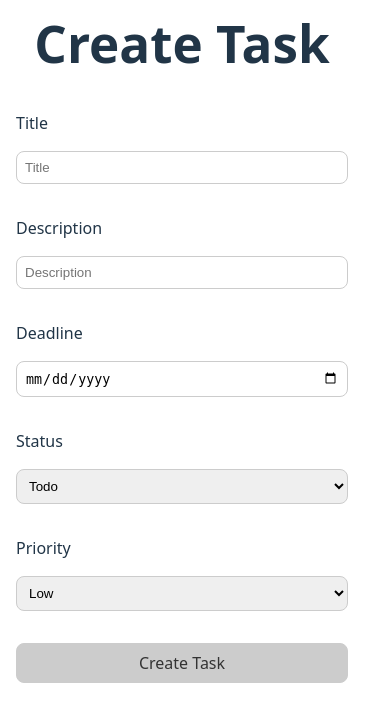
CreateTaskPage › should show error when deadline is in the past
Type "Test Task" into the field with placeholder "Title" at (182, 168), box [16,152,348,184]
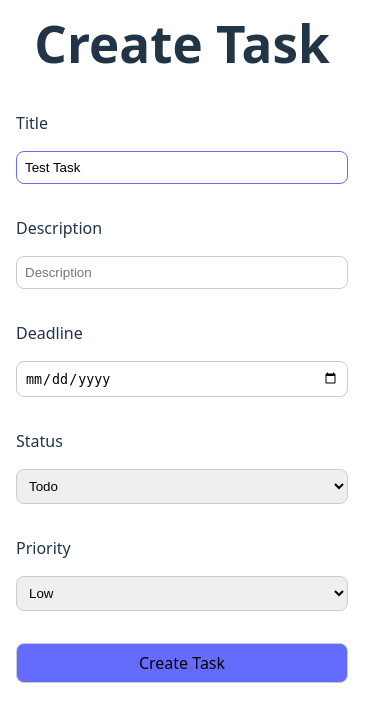
Type "2024-12-31" into the date field labelled "Deadline" at (182, 379), box [16,362,348,397]
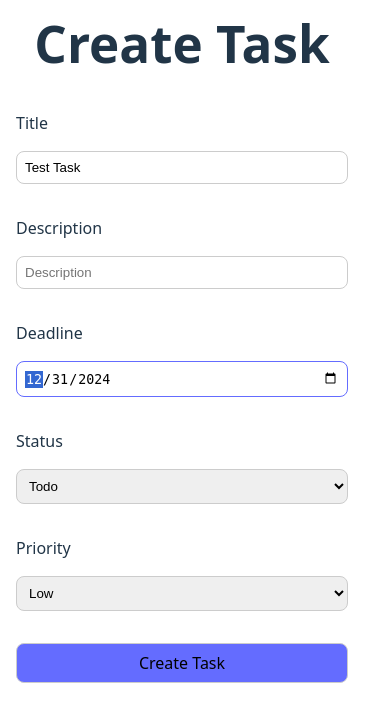
Press Tab
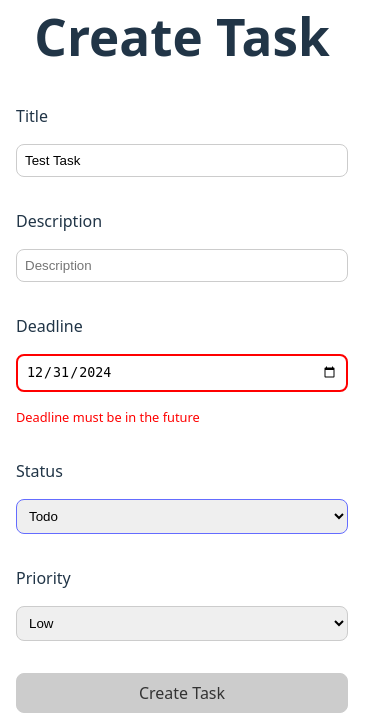
Expected: the button "Create Task" is disabled, [16,673,348,713]
Expected: the text "Deadline must be in the future" is shown, [16,408,200,426]
